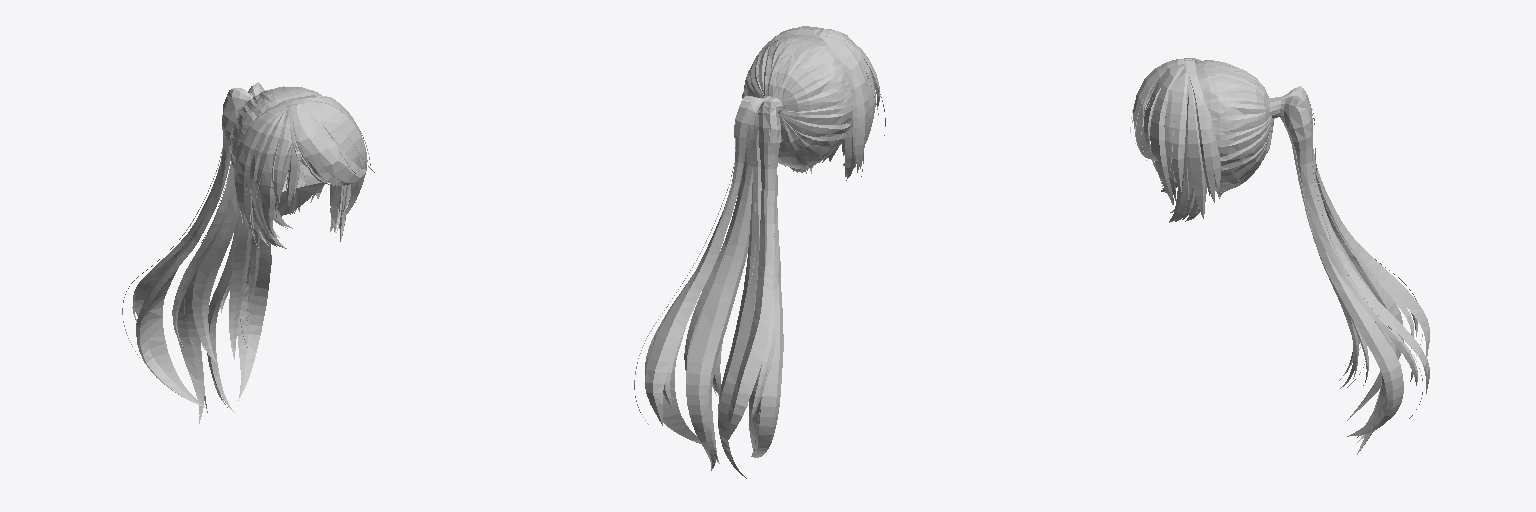
File: Hair PonyTail 2244.obj
The picture shows the model from 3 angles: view 1: azimuth 30°, elevation 25°; view 2: azimuth 150°, elevation 25°; view 3: azimuth 270°, elevation 25°; orthographic projection.
Size of the model in its own units: 28.18 by 80.76 by 57.15.